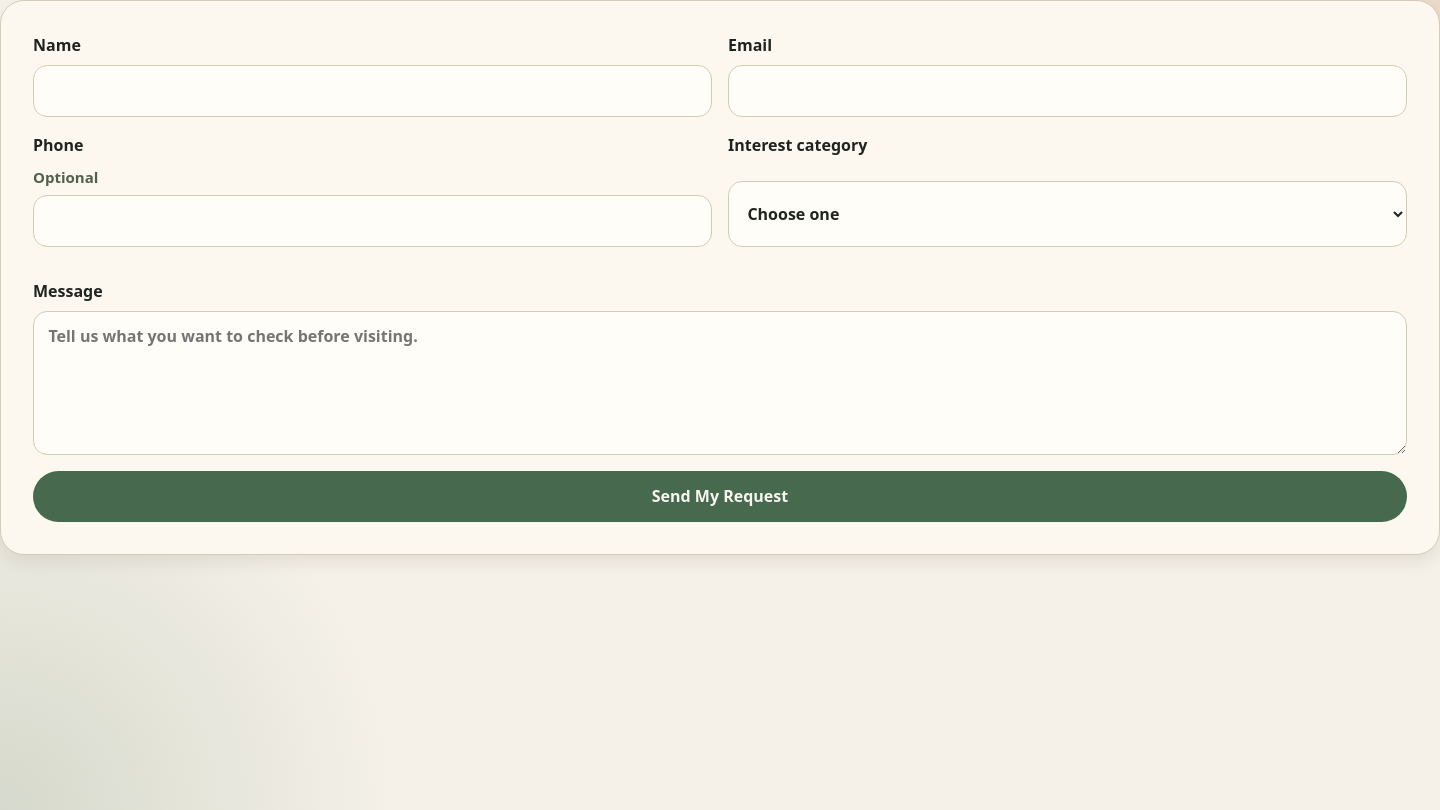
Test case: InquiryForm › submits and renders success feedback
Type "Jamie" into the field labelled "Name".
click(372, 91); type("Jamie")  # box [33,65,712,117]
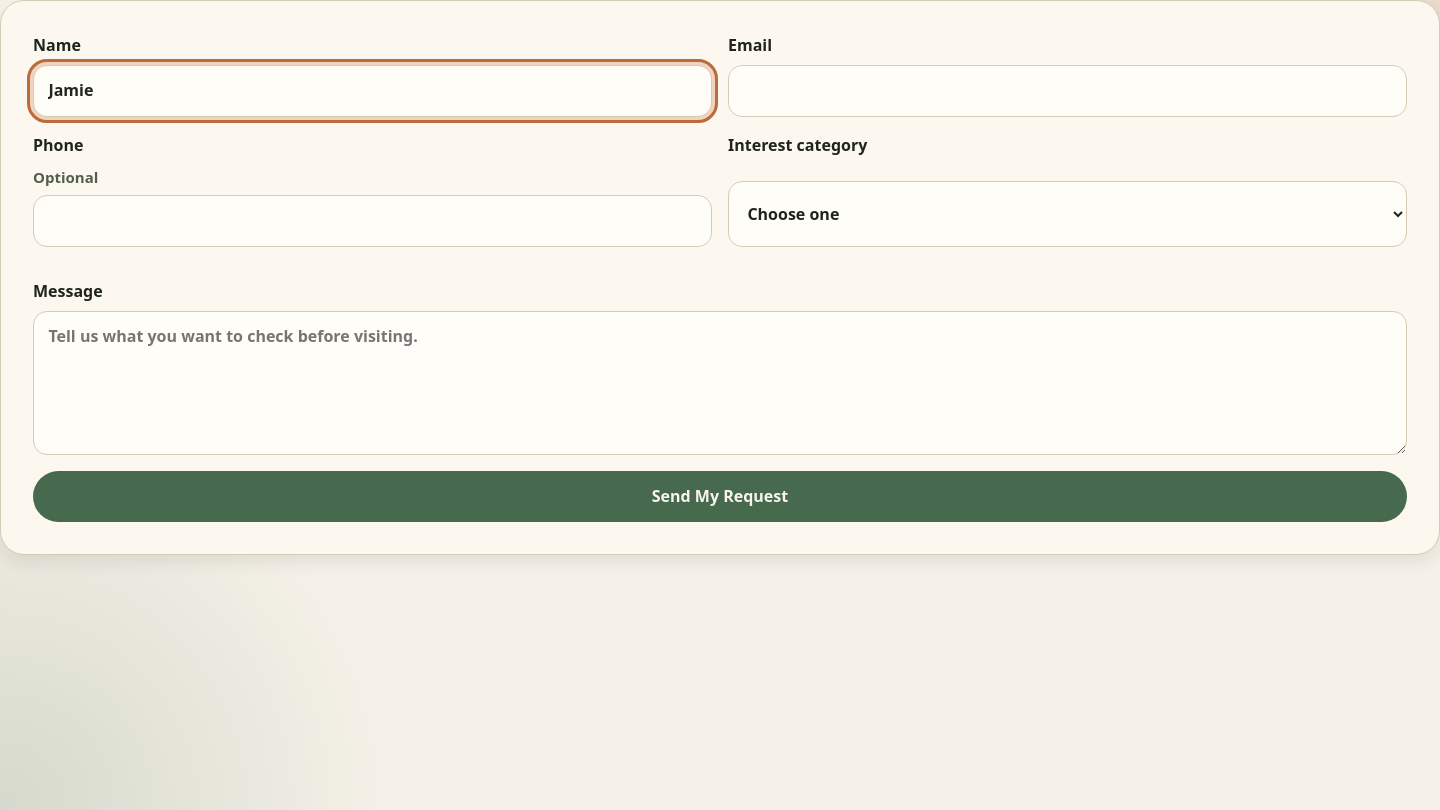
Type "jamie@example.com" into the field labelled "Email".
click(1068, 91); type("jamie@example.com")  # box [728,65,1407,117]
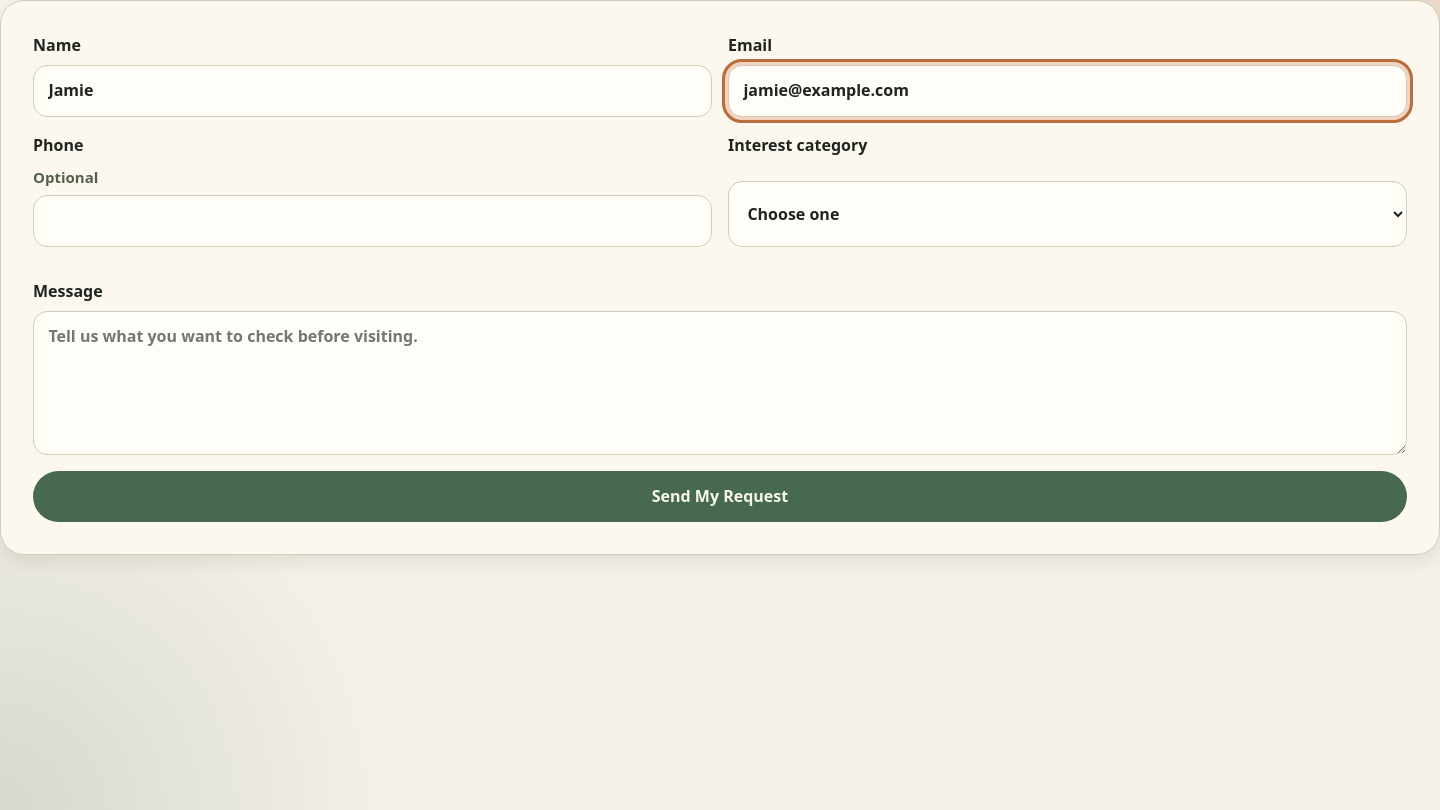
Select "Feeders" in the dropdown labelled "Interest category" at (1068, 214), box [728,180,1407,246]
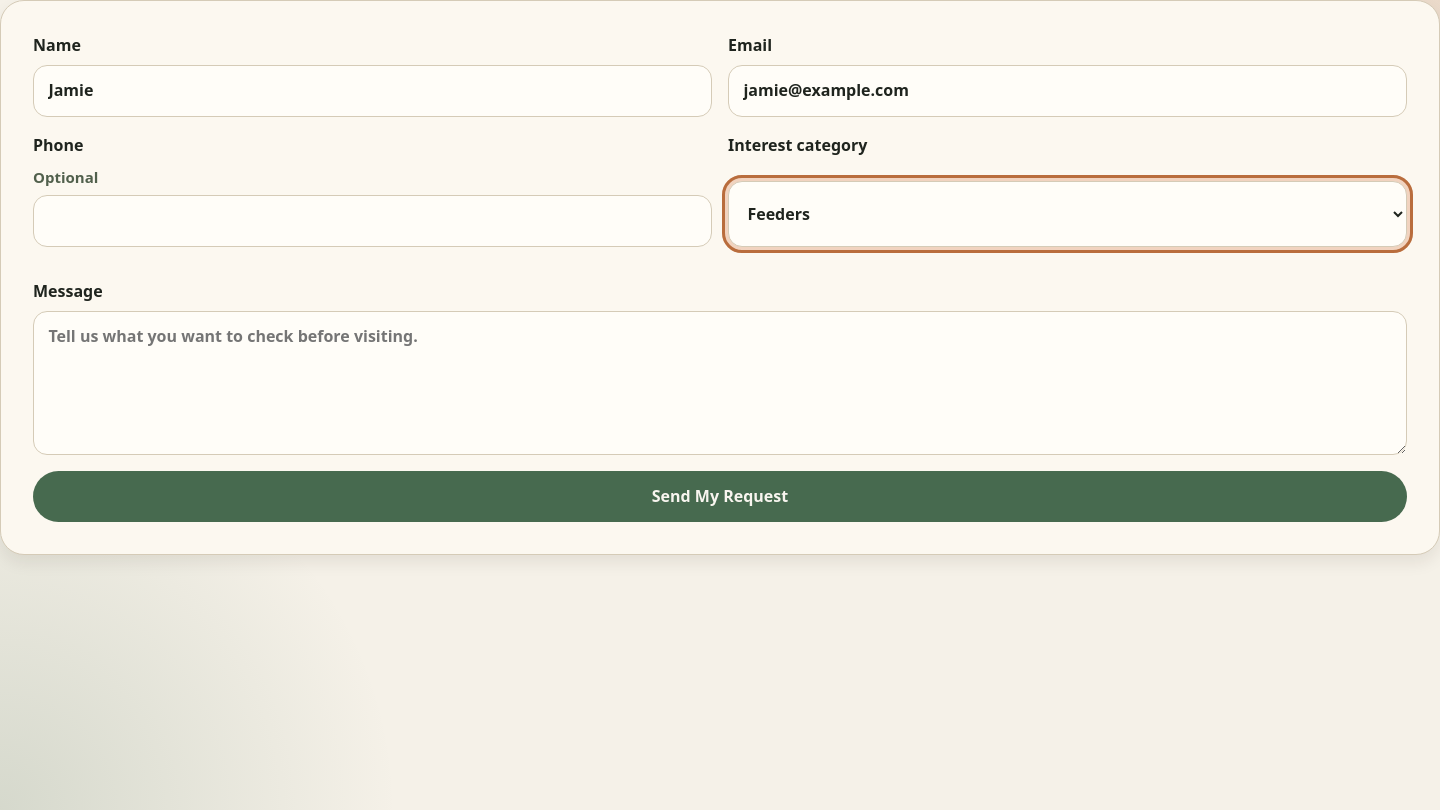
Type "Checking feeder availability." into the text box labelled "Message".
click(720, 382); type("Checking feeder availability.")  # box [33,310,1407,454]
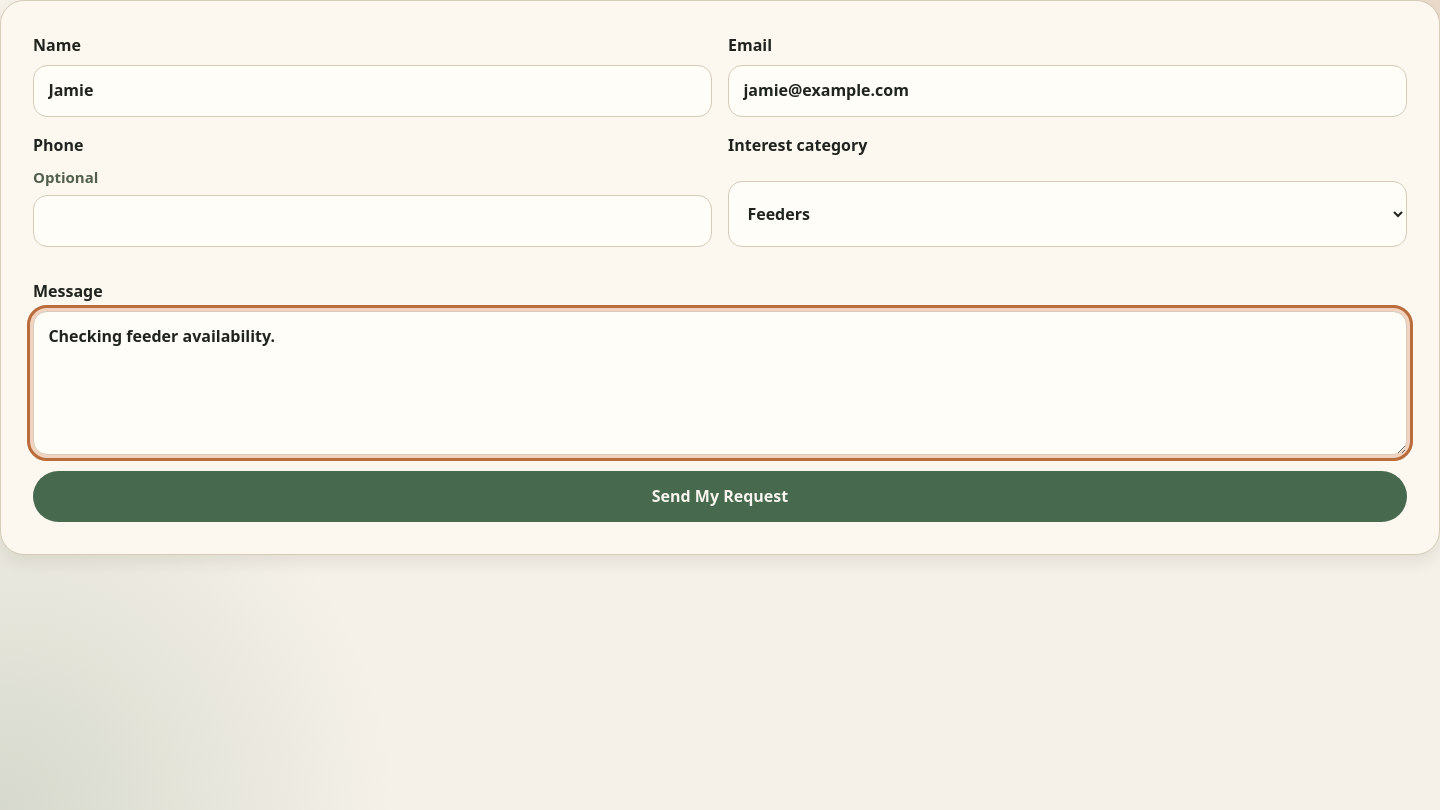
Click the button "Send My Request".
click(720, 496)  # box [33,470,1407,522]
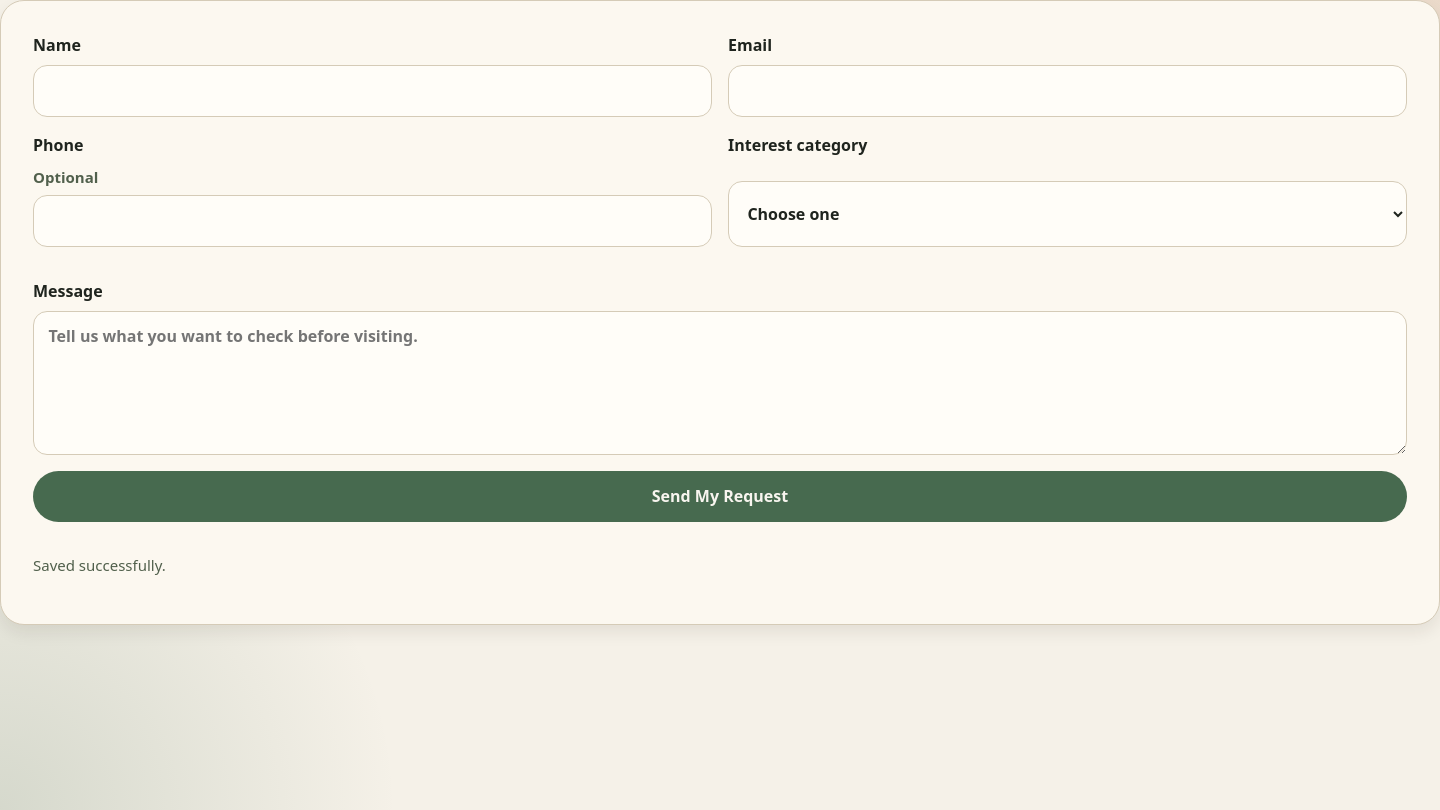
expect the text "Saved successfully." is shown: met, box [33,555,166,575]
